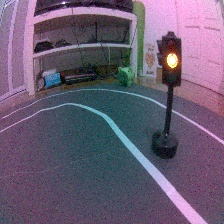amber: (154, 31, 185, 159)
